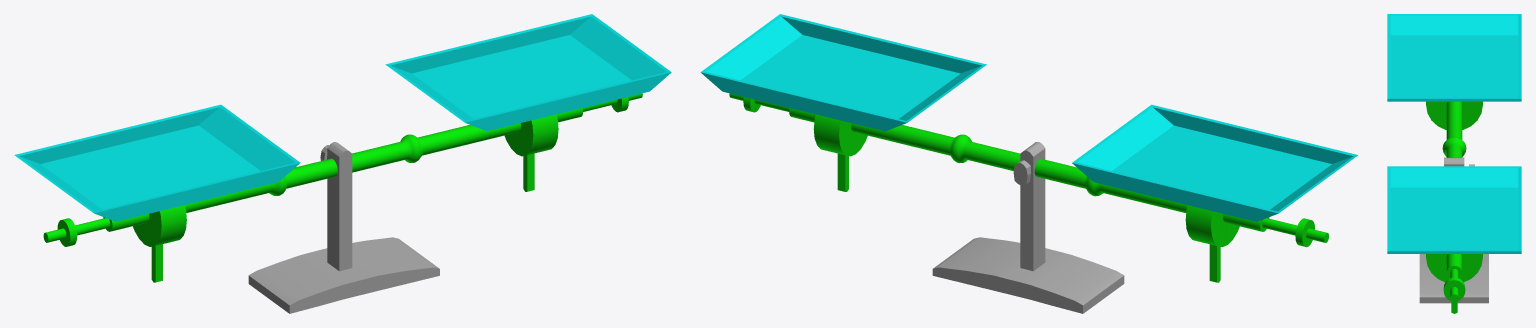
File: Balance_No2.fbx
The picture shows the model from 3 angles, left to right: view 1: azimuth 30°, elevation 25°; view 2: azimuth 150°, elevation 25°; view 3: azimuth 270°, elevation 25°; orthographic projection. The views are drawn at different scales.
Parts seen in each view (by area): view 1: pCube4, pCube3, pCube2, pCylinder3; view 2: pCube3, pCube4, pCube2, pCylinder3; view 3: pCube3, pCube4, pCylinder3, pCube2.
Boxes of the visible parts, left/top/right/bottom form: pCube4: left=14, top=104, right=300, bottom=221; pCube3: left=385, top=14, right=671, bottom=131; pCube2: left=248, top=142, right=439, bottom=313; pCylinder3: left=43, top=93, right=642, bottom=282; pCube3: left=700, top=14, right=986, bottom=131; pCube4: left=1072, top=104, right=1358, bottom=221; pCube2: left=932, top=142, right=1124, bottom=313; pCylinder3: left=729, top=93, right=1328, bottom=282; pCube3: left=1387, top=166, right=1521, bottom=253; pCube4: left=1387, top=14, right=1521, bottom=101; pCylinder3: left=1426, top=101, right=1482, bottom=313; pCube2: left=1419, top=157, right=1488, bottom=303.
Size of the model in its own units: 73 by 19.61 by 16.95.
